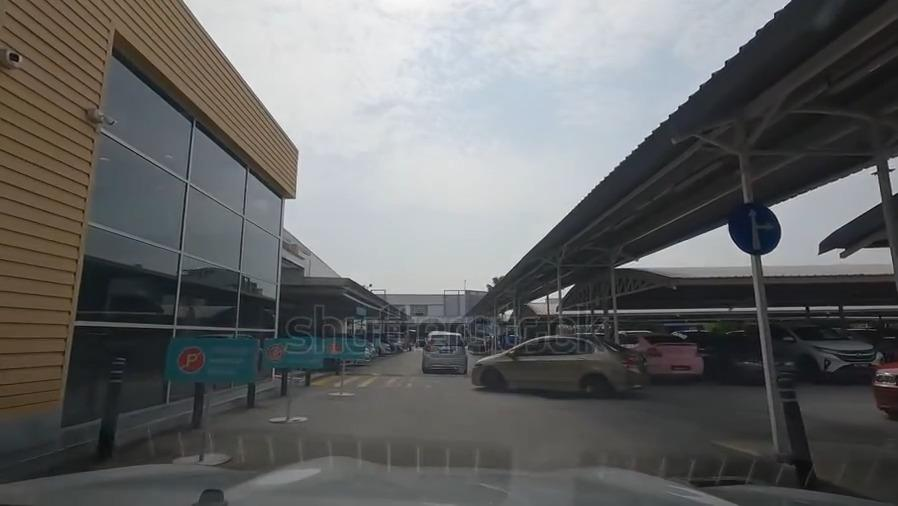car: (473, 342, 635, 392), (785, 320, 886, 379), (703, 332, 795, 379), (624, 330, 707, 382), (418, 331, 467, 375), (875, 358, 898, 415)
manhole: (688, 471, 745, 487)
pedestrian: (312, 376, 481, 393)
speedbump: (338, 368, 479, 379)
wheel: (584, 372, 608, 398), (478, 367, 503, 388)
